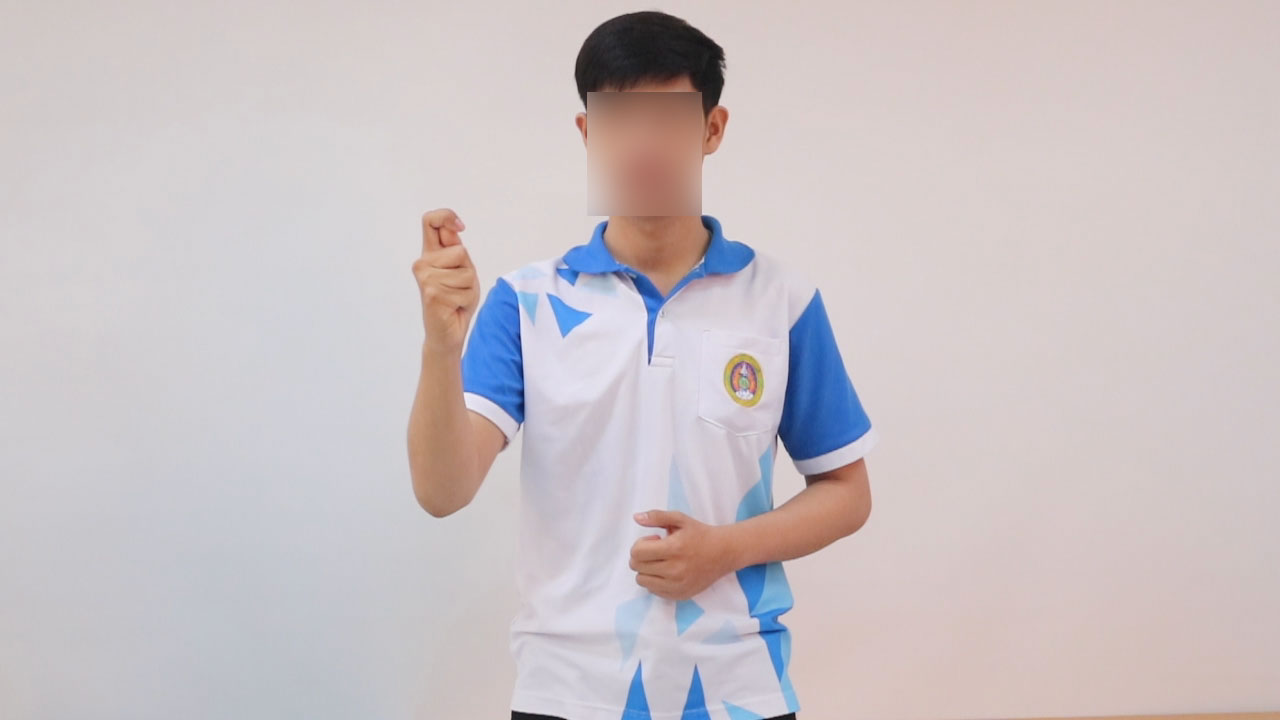or: (404, 203, 487, 355)
